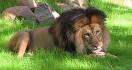lion: (10, 9, 109, 59)
